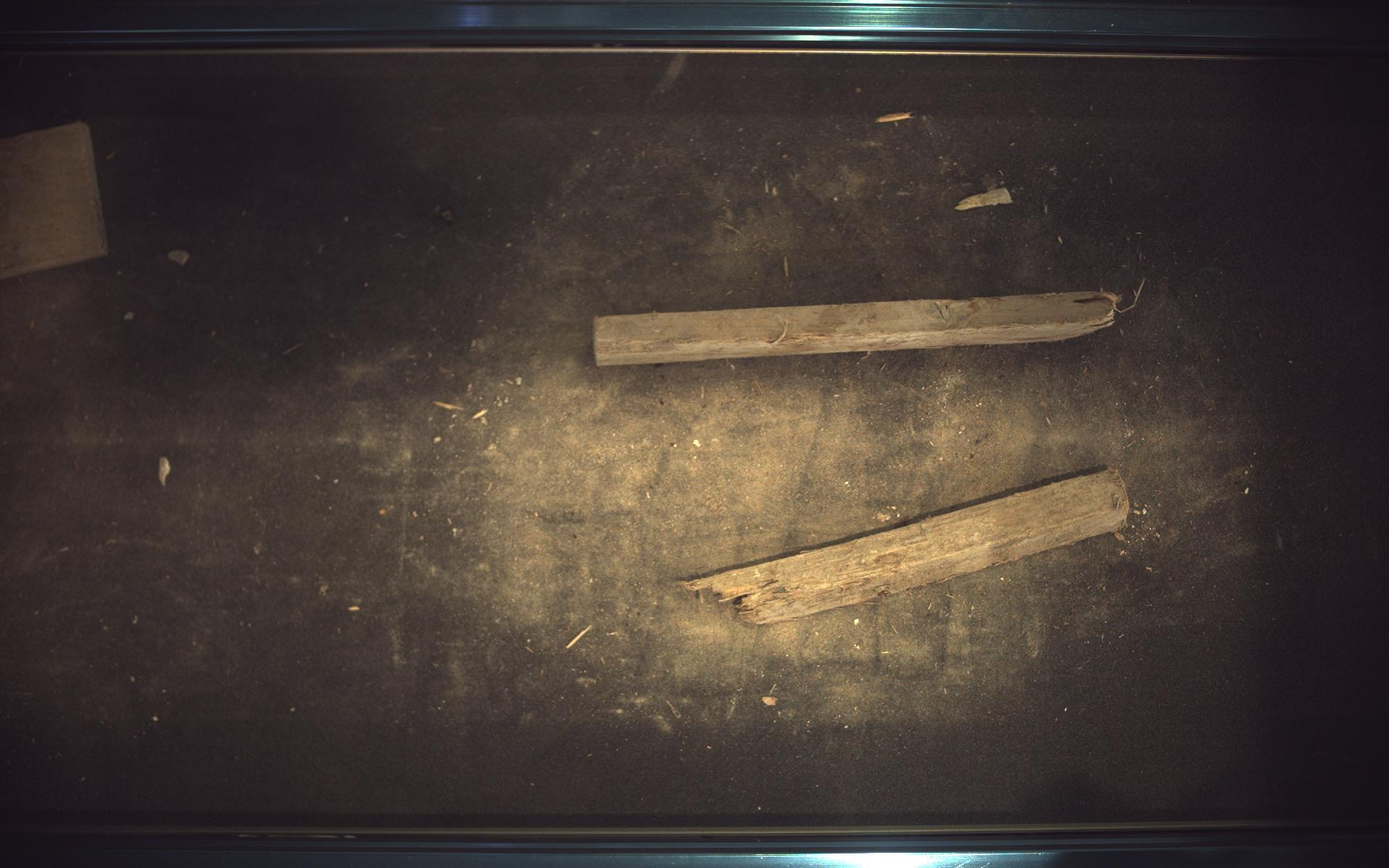wood: (685, 469, 1132, 626), (595, 291, 1121, 366)
